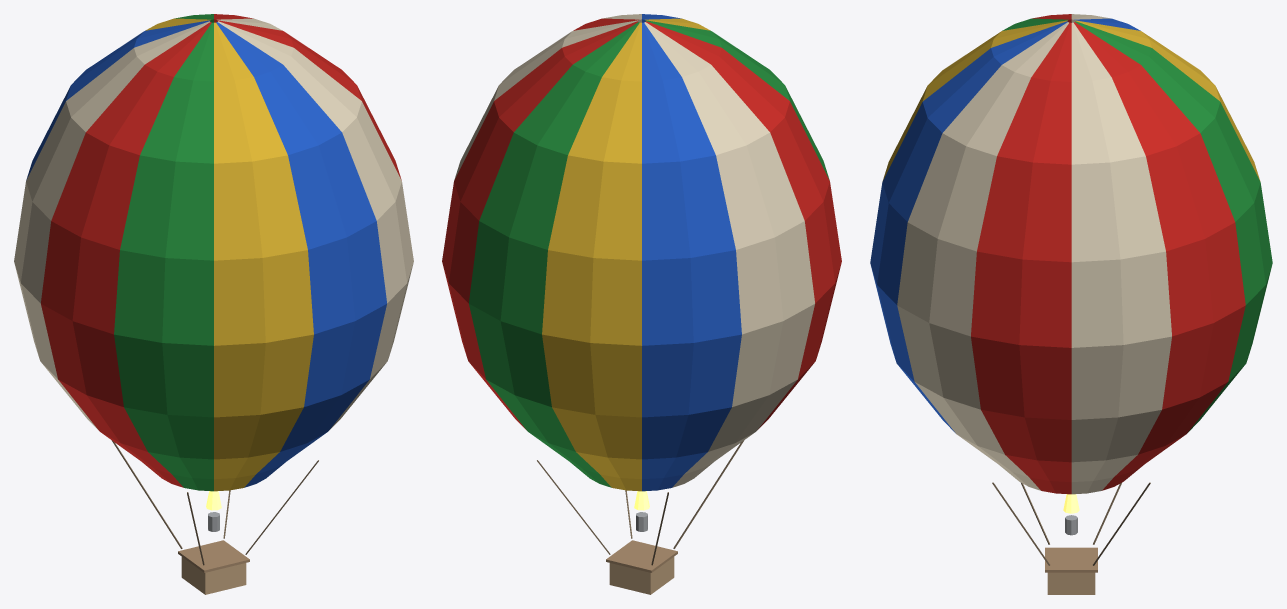
File: balloon.glb
3 renders of one model, left to right at view 1: azimuth 30°, elevation 25°; view 2: azimuth 150°, elevation 25°; view 3: azimuth 270°, elevation 25°, orthographic.
Visible parts, largest first — view 1: balloon; view 2: balloon; view 3: balloon.
Boxes of the visible parts, bbox=[...] form: balloon: bbox=[14, 14, 413, 594]; balloon: bbox=[442, 14, 841, 594]; balloon: bbox=[870, 14, 1272, 594].
Size of the model in its own units: 22 by 34 by 22.
